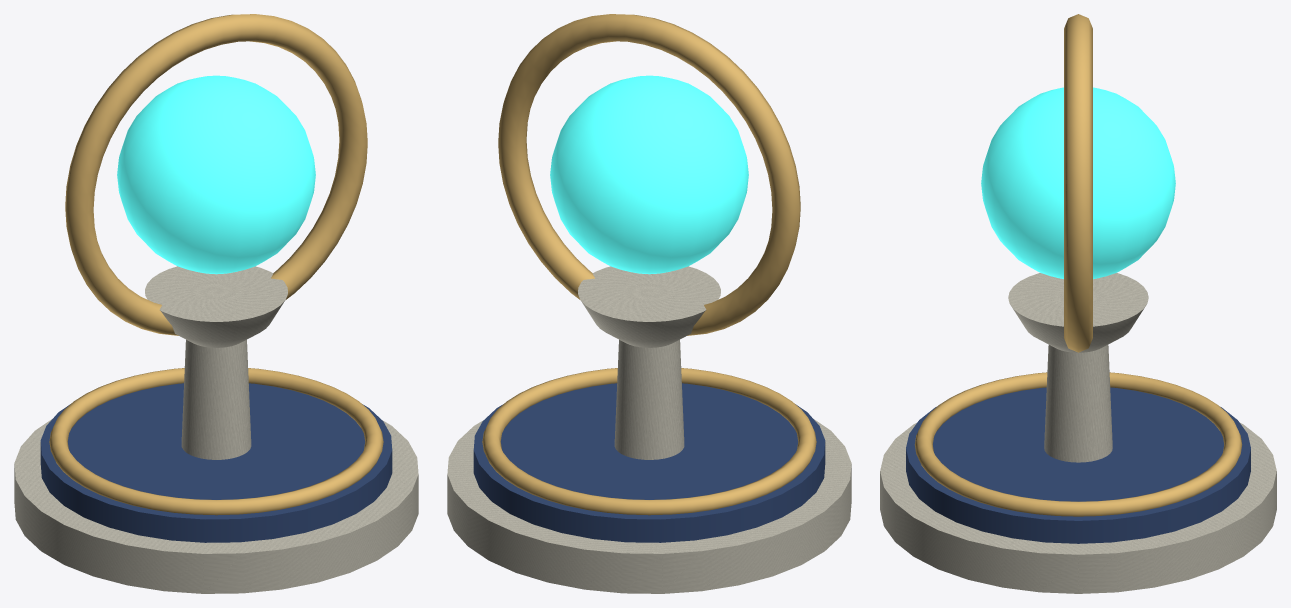
Rendered from arcane-academy-and-spell-trials-crystal-resonator-586b5f62__28299.glb.
The picture shows the model from 3 angles, left to right: view 1: azimuth 30°, elevation 25°; view 2: azimuth 150°, elevation 25°; view 3: azimuth 270°, elevation 25°; orthographic projection. The views are drawn at different scales.
Visible parts, largest first — view 1: crystal-resonator; view 2: crystal-resonator; view 3: crystal-resonator.
Boxes of the visible parts, x1,y1,x2,y2 form: crystal-resonator: [14, 14, 418, 593]; crystal-resonator: [447, 14, 851, 593]; crystal-resonator: [880, 14, 1276, 593].
Size of the model in its own units: 1.1 by 1.47 by 1.1.
Materials: 4 (1 with a texture image).
